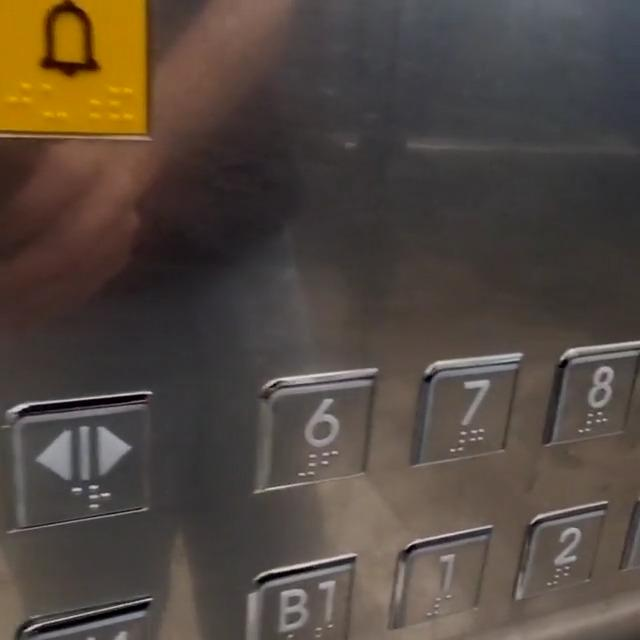button: (0, 7, 162, 149), (10, 417, 152, 514), (428, 366, 527, 473), (267, 386, 371, 485), (560, 349, 640, 448), (260, 573, 364, 640), (533, 512, 612, 592), (404, 544, 481, 622)
